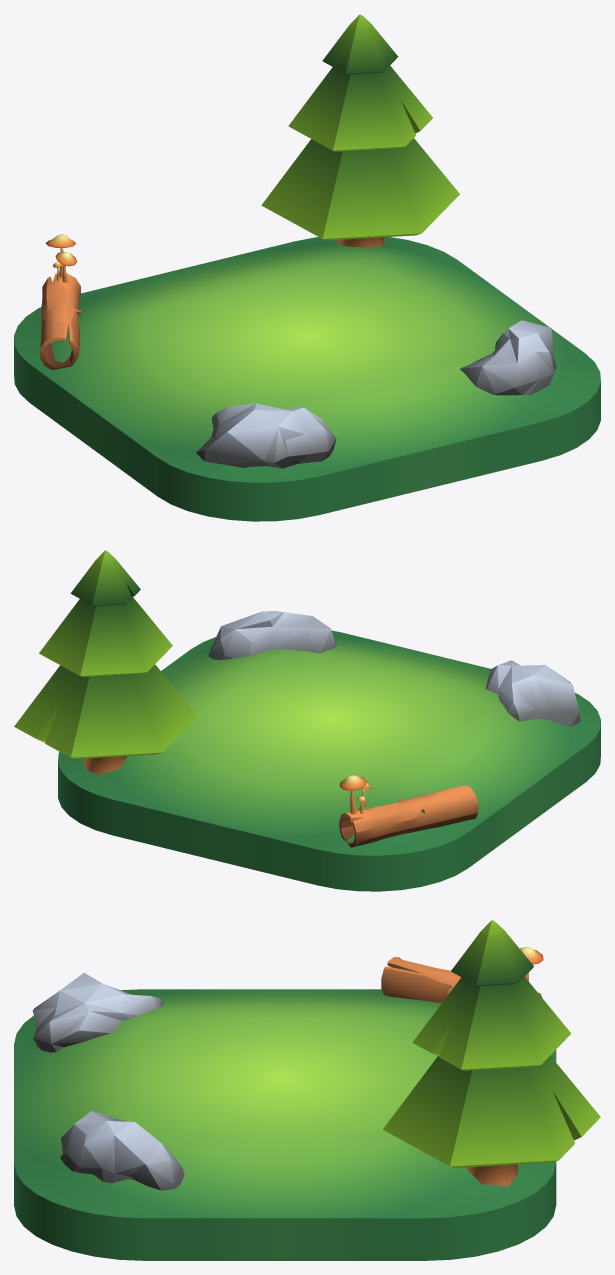
The model's file is ForestSceneRoom.fbx.
The picture shows the model from 3 angles, top to bottom: view 1: azimuth 30°, elevation 25°; view 2: azimuth 150°, elevation 25°; view 3: azimuth 270°, elevation 25°; orthographic projection. The views are drawn at different scales.
Parts seen in each view (by area): view 1: Plane, Circle, rock2, rock1, log, Shrooms; view 2: Plane, Circle, log, rock1, rock2, Shrooms; view 3: Plane, Circle, rock1, rock2, log.
Part boxes in pixels (x1,y1,x2,y2): Plane: (14,237,600,521); Circle: (261,14,459,247); rock2: (196,403,336,468); rock1: (460,320,556,395); log: (40,273,82,369); Shrooms: (45,234,76,283); Plane: (58,630,600,891); Circle: (14,550,197,774); log: (339,785,478,847); rock1: (208,611,336,660); rock2: (486,660,580,726); Shrooms: (339,775,372,814); Plane: (14,989,556,1260); Circle: (383,920,600,1186); rock1: (60,1111,184,1190); rock2: (32,972,164,1052); log: (381,957,542,1003).
Bounding box in the file's own units: 4161 × 2502 × 4361.
